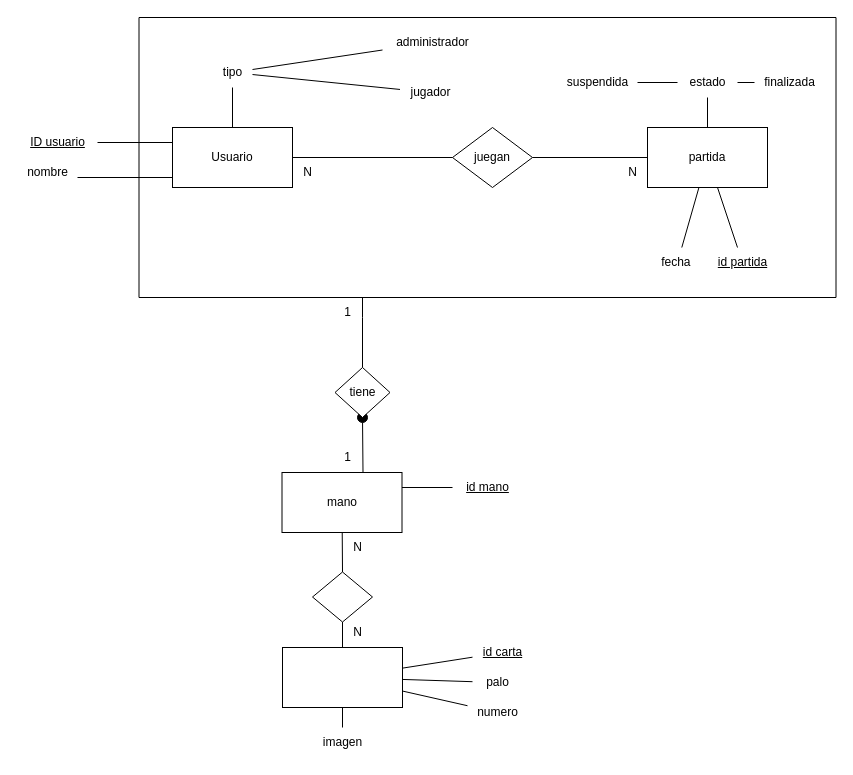
Image size: 853x775. Some labels were removed from this diagram. Each missing label, with the box of its shape:
carta: (282, 646, 402, 708)
compone: (312, 571, 372, 622)
